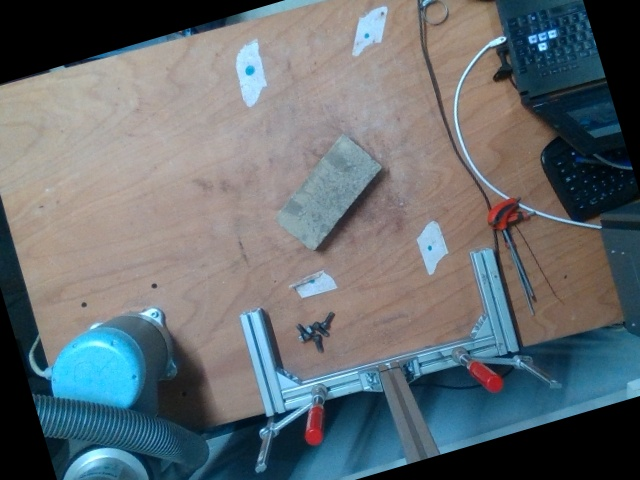brick: (276, 135, 379, 248)
